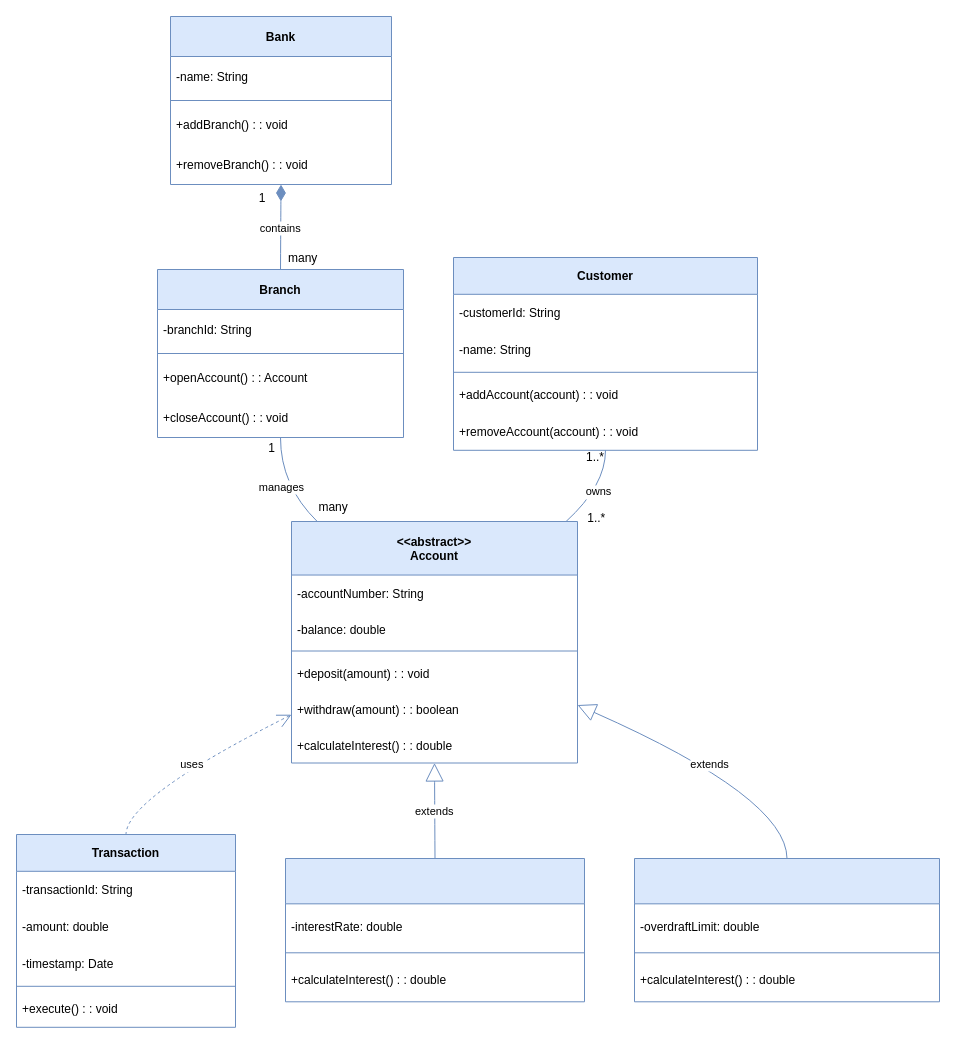
The diagram is 956 pixels wide and 1044 high, and some of its shapes have lost their labels. Here are the shapes that lost their labels. From the top down, the box of each, then its label:
(284, 858, 584, 1002): SavingsAccount
(634, 858, 940, 1002): CheckingAccount
